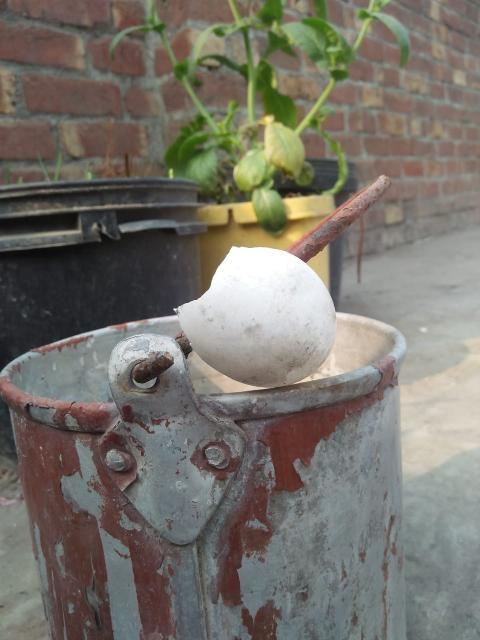Roto: (173, 244, 338, 388)
